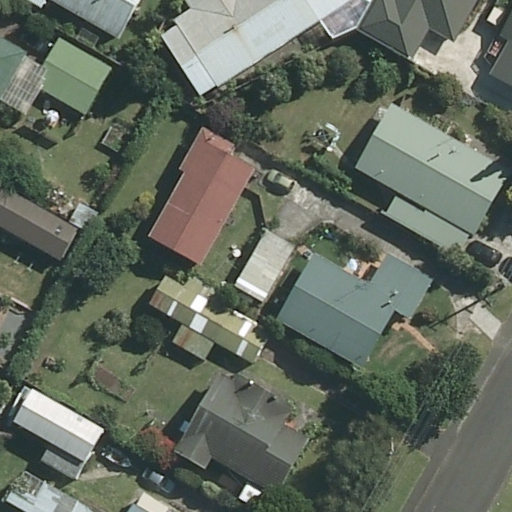DT: (489, 273, 510, 295)
